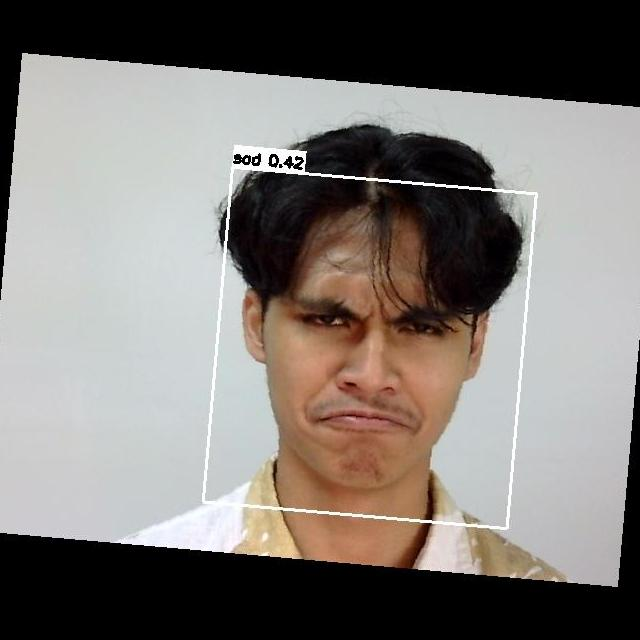Sad: (248, 254, 465, 468)
